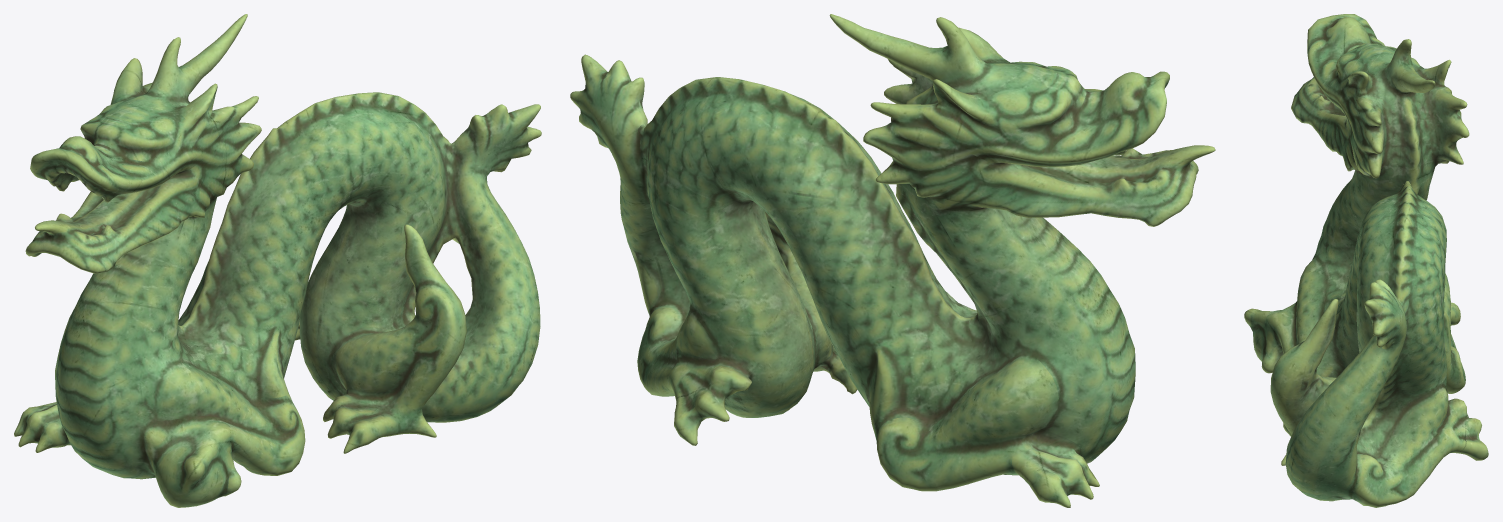
File: Dragon.gltf
The picture shows the model from 3 angles, left to right: view 1: azimuth 30°, elevation 25°; view 2: azimuth 150°, elevation 25°; view 3: azimuth 270°, elevation 25°; orthographic projection. The views are drawn at different scales.
Parts seen in each view (by area): view 1: StanfordDragon_low; view 2: StanfordDragon_low; view 3: StanfordDragon_low.
Part boxes in pixels (bbox=[...]): StanfordDragon_low: bbox=[14, 14, 541, 507]; StanfordDragon_low: bbox=[570, 14, 1215, 507]; StanfordDragon_low: bbox=[1244, 14, 1488, 507].
Bounding box in the file's own units: 5.1 × 3.59 × 2.28.
1 material, 1 textured.
